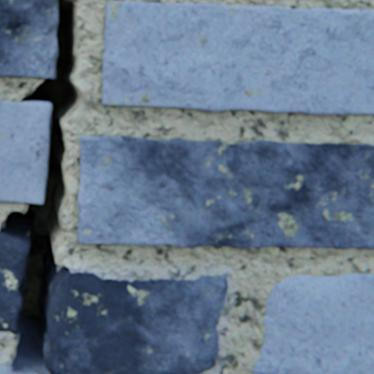brick: (77, 135, 373, 248), (102, 1, 373, 114), (251, 272, 373, 373), (0, 100, 51, 202), (0, 0, 58, 77)
broken_brick: (43, 265, 226, 373), (0, 230, 29, 332), (0, 363, 45, 373)
crack: (0, 0, 78, 373)
